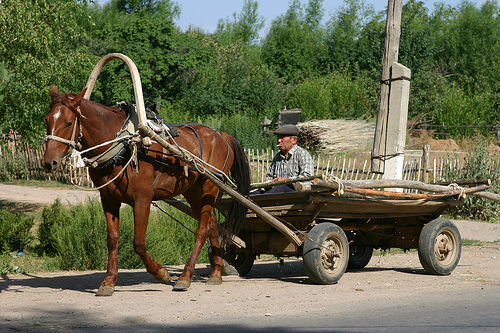horse: (42, 84, 252, 298)
